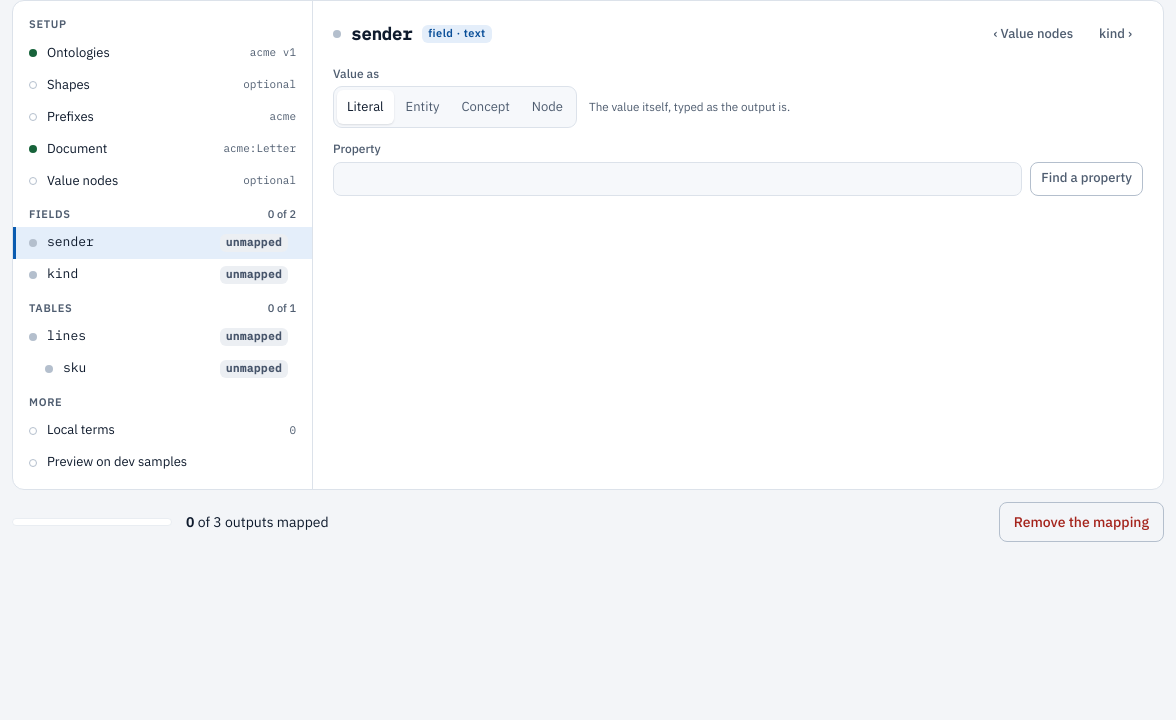
Scenario: MappingEditor › shows why a preview could not start
What coordinates should you click on to do the following:
click the button "Preview on dev samples"
I would click on:
 (162, 463)
Its box is [13,447,312,479].
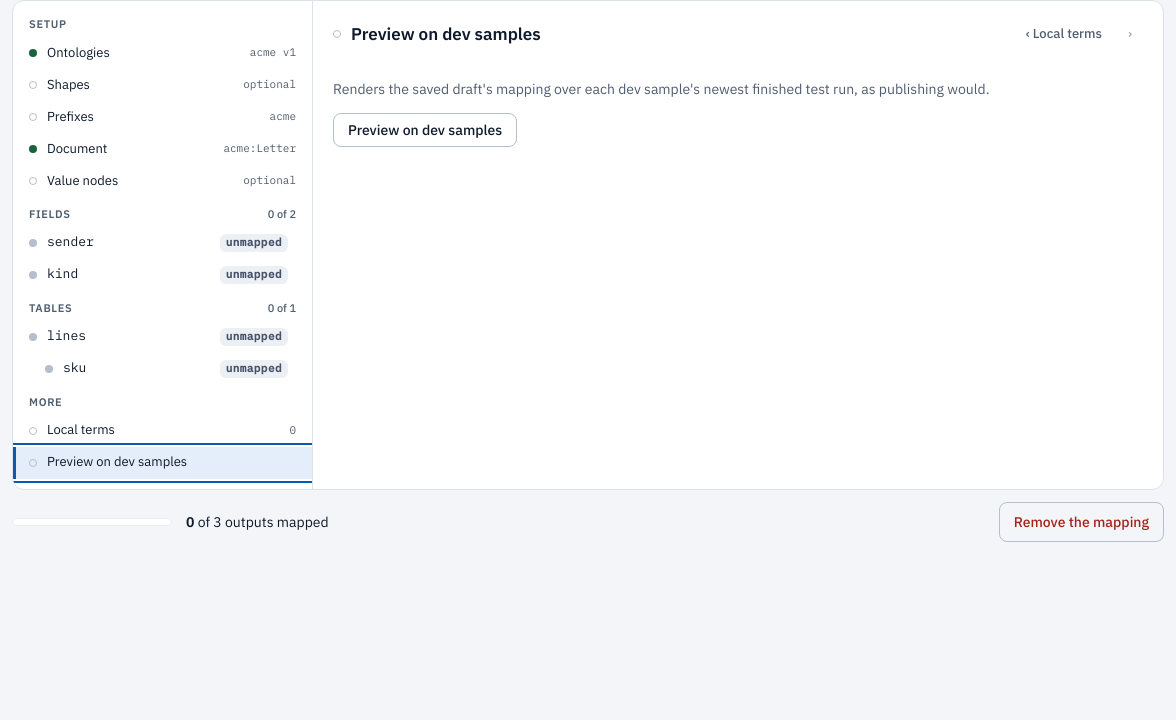
What coordinates should you click on to do the following:
click the 1st button "Preview on dev samples"
I would click on:
 (425, 130)
Its box is [333,113,517,147].
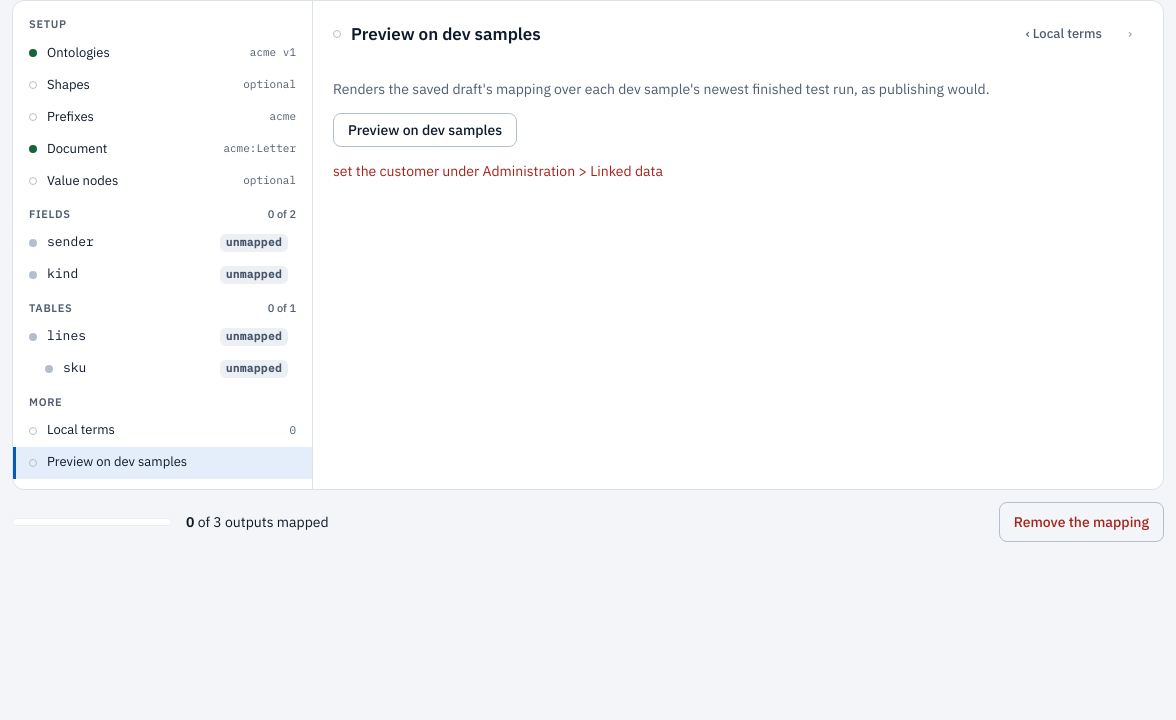
Check: the message reads "set the customer under Administration > Linked data", box [333,162,663,180]
